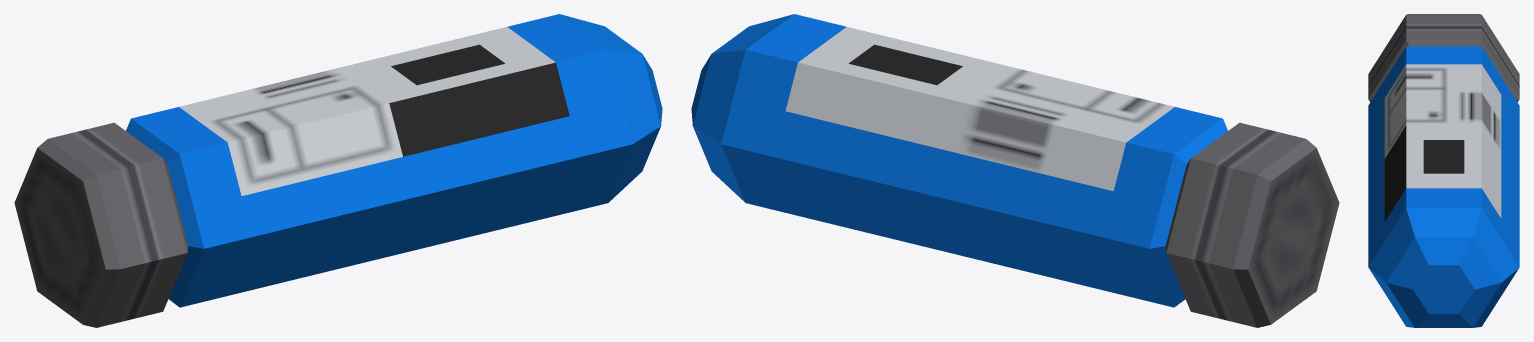
The model's file is SM_Prop_Pill_Bottle_03.fbx.
3 renders of one model, left to right at view 1: azimuth 30°, elevation 25°; view 2: azimuth 150°, elevation 25°; view 3: azimuth 270°, elevation 25°, orthographic. The views are drawn at different scales.
Parts seen in each view (by area): view 1: SM_Prop_Pill_Bottle_03; view 2: SM_Prop_Pill_Bottle_03; view 3: SM_Prop_Pill_Bottle_03.
Part boxes in pixels (x1,y1,x2,y2): SM_Prop_Pill_Bottle_03: (14, 14, 662, 327); SM_Prop_Pill_Bottle_03: (691, 14, 1339, 327); SM_Prop_Pill_Bottle_03: (1368, 14, 1519, 327).
Bounding box in the file's own units: 22.43 × 5.64 × 6.52.
